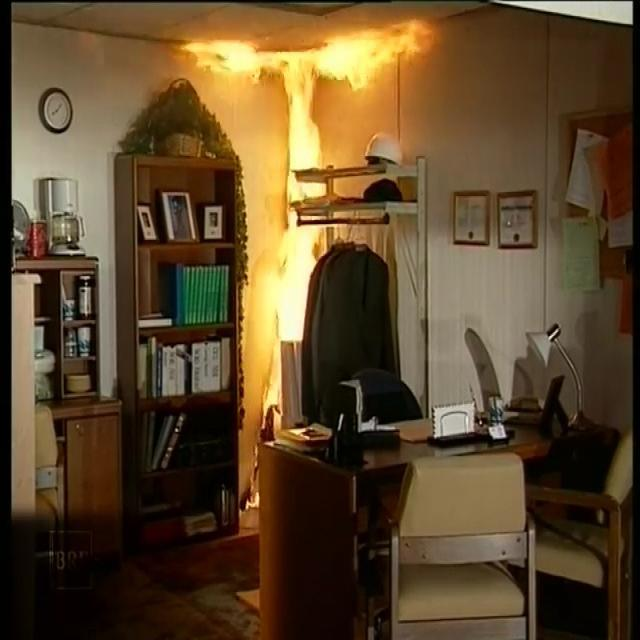Fire: (174, 10, 414, 460)
